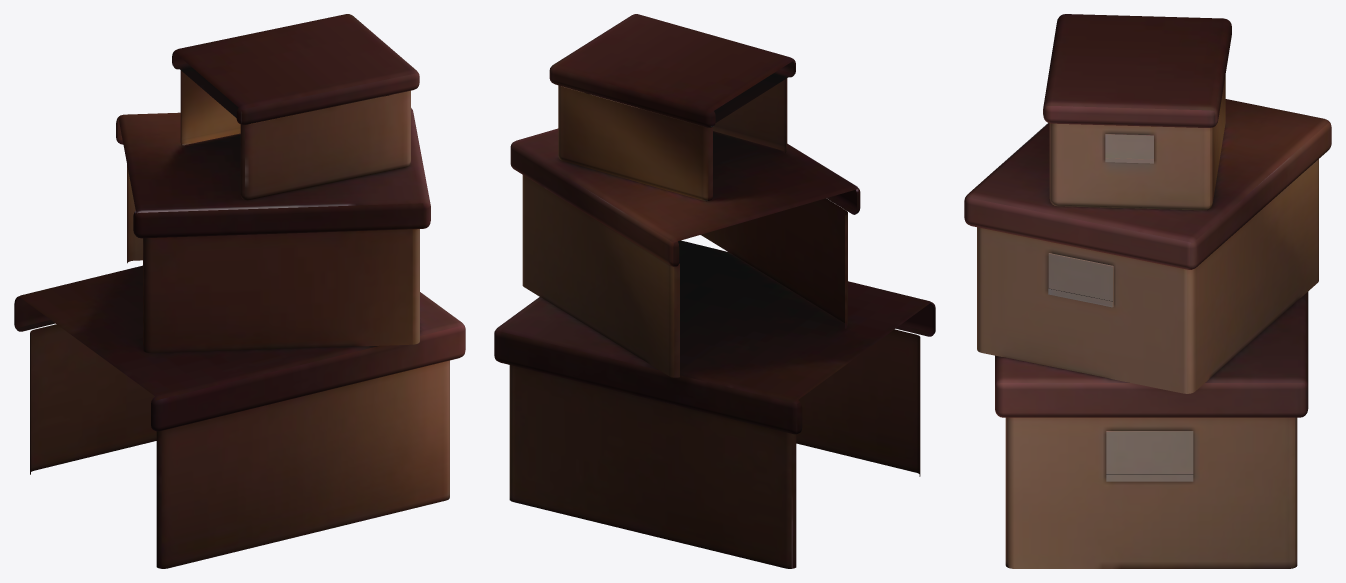
Rendered from boxes.glb.
3 renders of one model, left to right at view 1: azimuth 30°, elevation 25°; view 2: azimuth 150°, elevation 25°; view 3: azimuth 270°, elevation 25°, orthographic. The views are drawn at different scales.
Visible parts, largest first — view 1: Box_1_Hover_Fourth_Raycaster, Box_2_Hover_Fourth_Raycaster, Box_3_Hover_Fourth_Raycaster; view 2: Box_1_Hover_Fourth_Raycaster, Box_2_Hover_Fourth_Raycaster, Box_3_Hover_Fourth_Raycaster; view 3: Box_2_Hover_Fourth_Raycaster, Box_1_Hover_Fourth_Raycaster, Box_3_Hover_Fourth_Raycaster.
Part boxes in pixels (left/top/right/bottom): Box_1_Hover_Fourth_Raycaster: left=14, top=265, right=465, bottom=568; Box_2_Hover_Fourth_Raycaster: left=116, top=108, right=430, bottom=352; Box_3_Hover_Fourth_Raycaster: left=172, top=14, right=419, bottom=200; Box_1_Hover_Fourth_Raycaster: left=494, top=240, right=935, bottom=568; Box_2_Hover_Fourth_Raycaster: left=510, top=128, right=860, bottom=377; Box_3_Hover_Fourth_Raycaster: left=549, top=14, right=795, bottom=201; Box_2_Hover_Fourth_Raycaster: left=964, top=99, right=1331, bottom=393; Box_1_Hover_Fourth_Raycaster: left=995, top=291, right=1308, bottom=568; Box_3_Hover_Fourth_Raycaster: left=1043, top=14, right=1231, bottom=210.
Size of the model in its own units: 1.27 by 1.46 by 1.07.
1 material, 1 textured.
